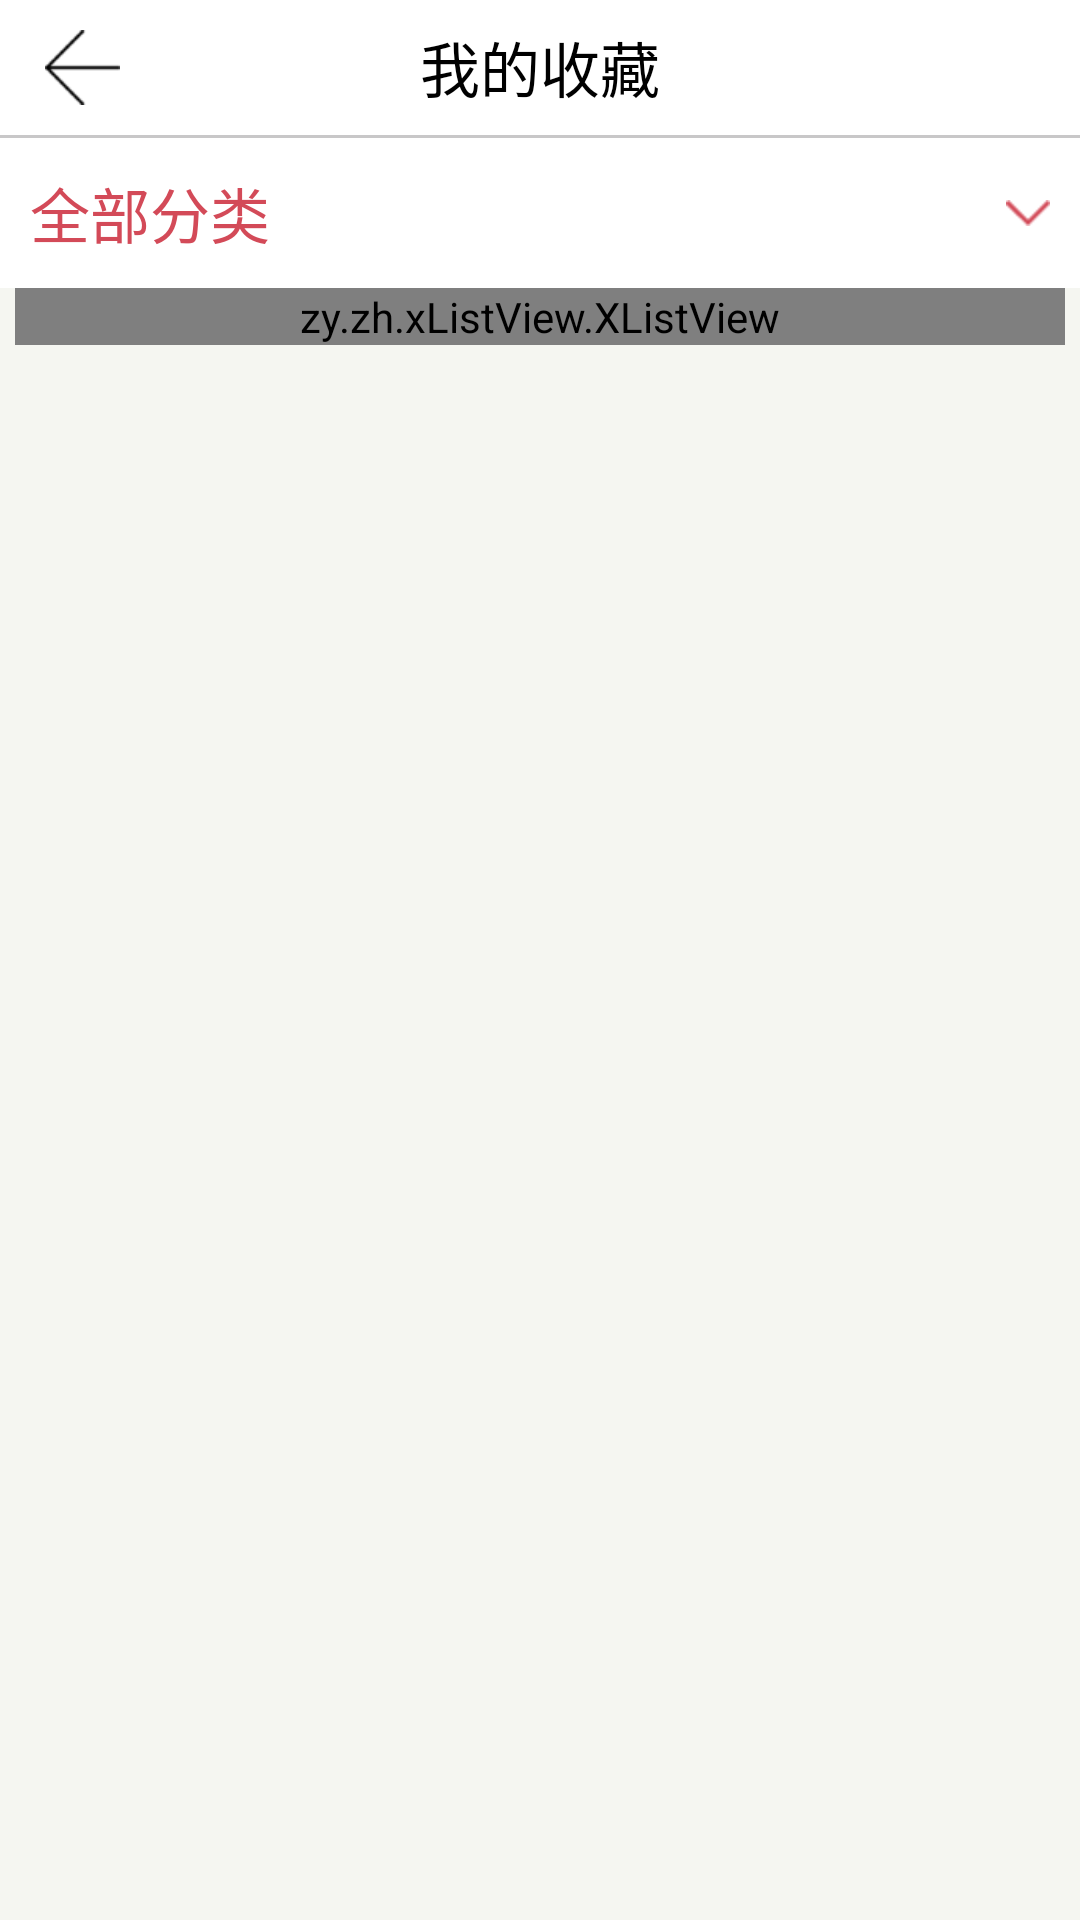

Named icons in this screenshot (1080px x 1920px) and their bounding boxes, BBox(x1, y1, x2, y2):
down: BBox(1006, 200, 1050, 226)
left: BBox(45, 30, 120, 105)
